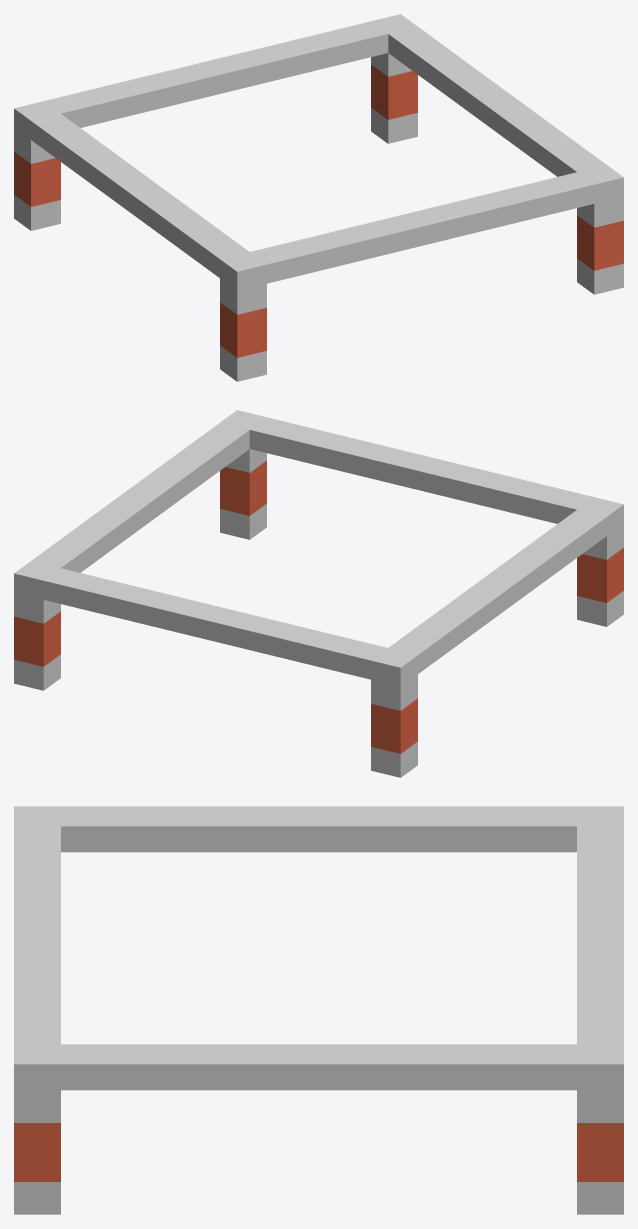
Rendered from frameLow.obj.
3 renders of one model, top to bottom at view 1: azimuth 30°, elevation 25°; view 2: azimuth 150°, elevation 25°; view 3: azimuth 270°, elevation 25°, orthographic. The views are drawn at different scales.
Visible parts, largest first — view 1: frameLow; view 2: frameLow; view 3: frameLow.
Part boxes in pixels (left/top/right/bottom): frameLow: left=14, top=14, right=623, bottom=381; frameLow: left=14, top=410, right=623, bottom=777; frameLow: left=14, top=806, right=623, bottom=1214.
Size of the model in its own units: 8.45 by 2.3 by 8.45.
